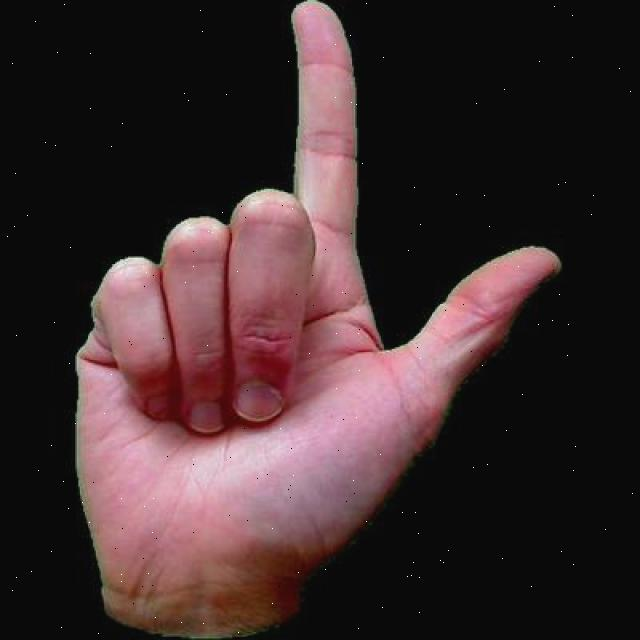l: (48, 0, 562, 637)
